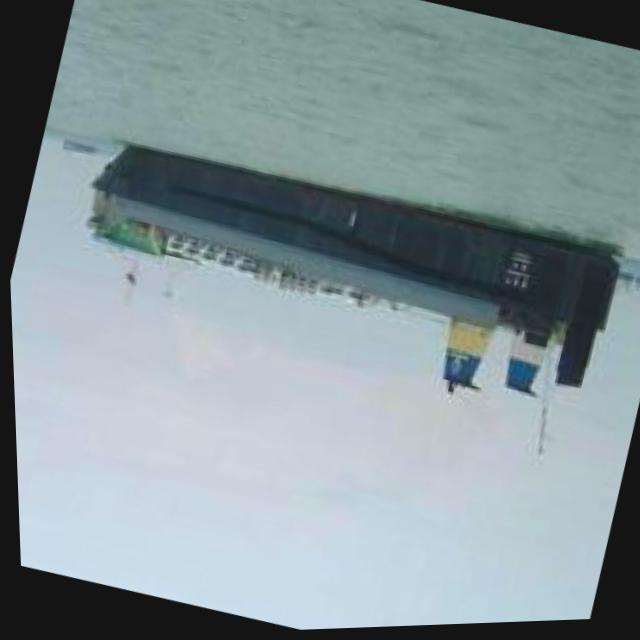ship2: (84, 142, 622, 457)
